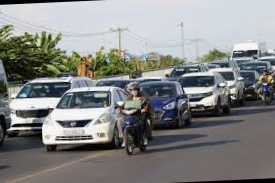Bien-so: (62, 128, 86, 136)
